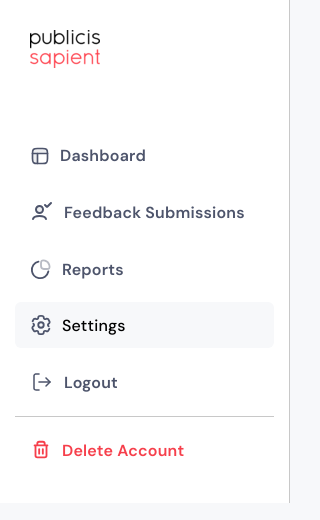
Test: Sidebar Component › shows delete confirmation model
Click the text "Delete Account" at coordinates (123, 450), box x1=62 y1=440 x2=184 y2=460
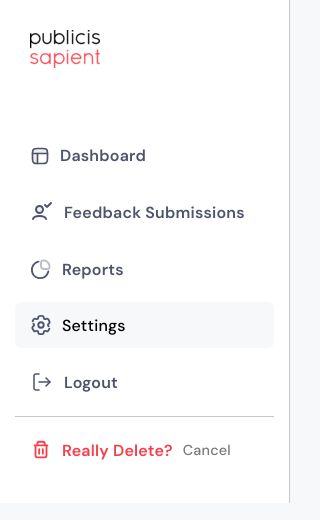
Expected: the text "Really Delete?" is shown, x1=62 y1=440 x2=173 y2=460
Expected: the text "Cancel" is shown
Click the text "Cancel" at coordinates (207, 450), box x1=183 y1=441 x2=231 y2=459
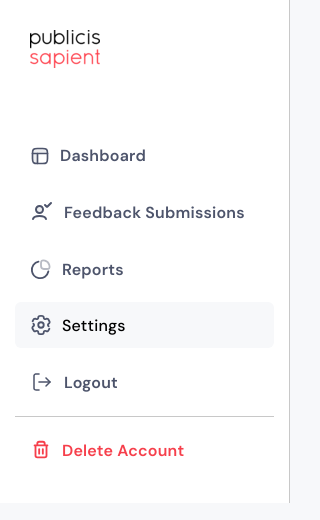
Expected: the text "Delete Account" is shown, x1=62 y1=440 x2=184 y2=460
